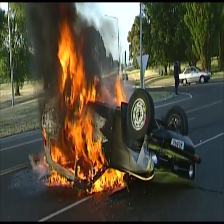fire_h: (50, 9, 108, 182), (85, 167, 126, 194), (46, 167, 74, 187), (114, 75, 128, 106)
fire_l: (37, 155, 49, 168), (42, 124, 48, 145)
